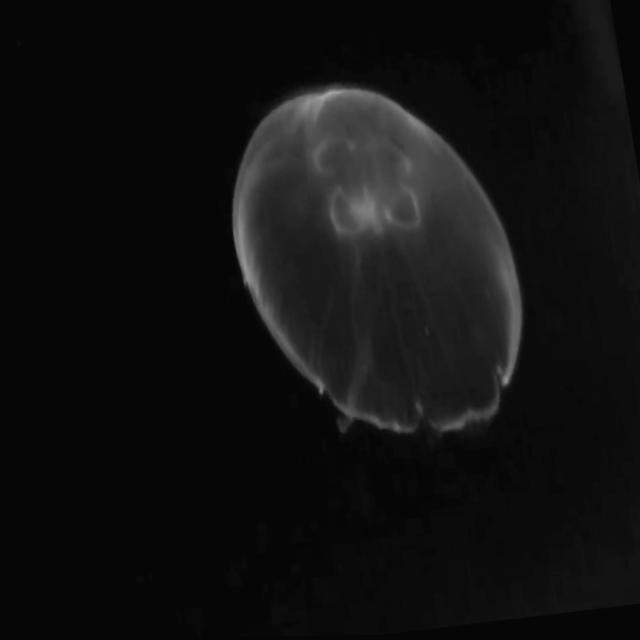Moon-jellyfish: (226, 81, 522, 437)
